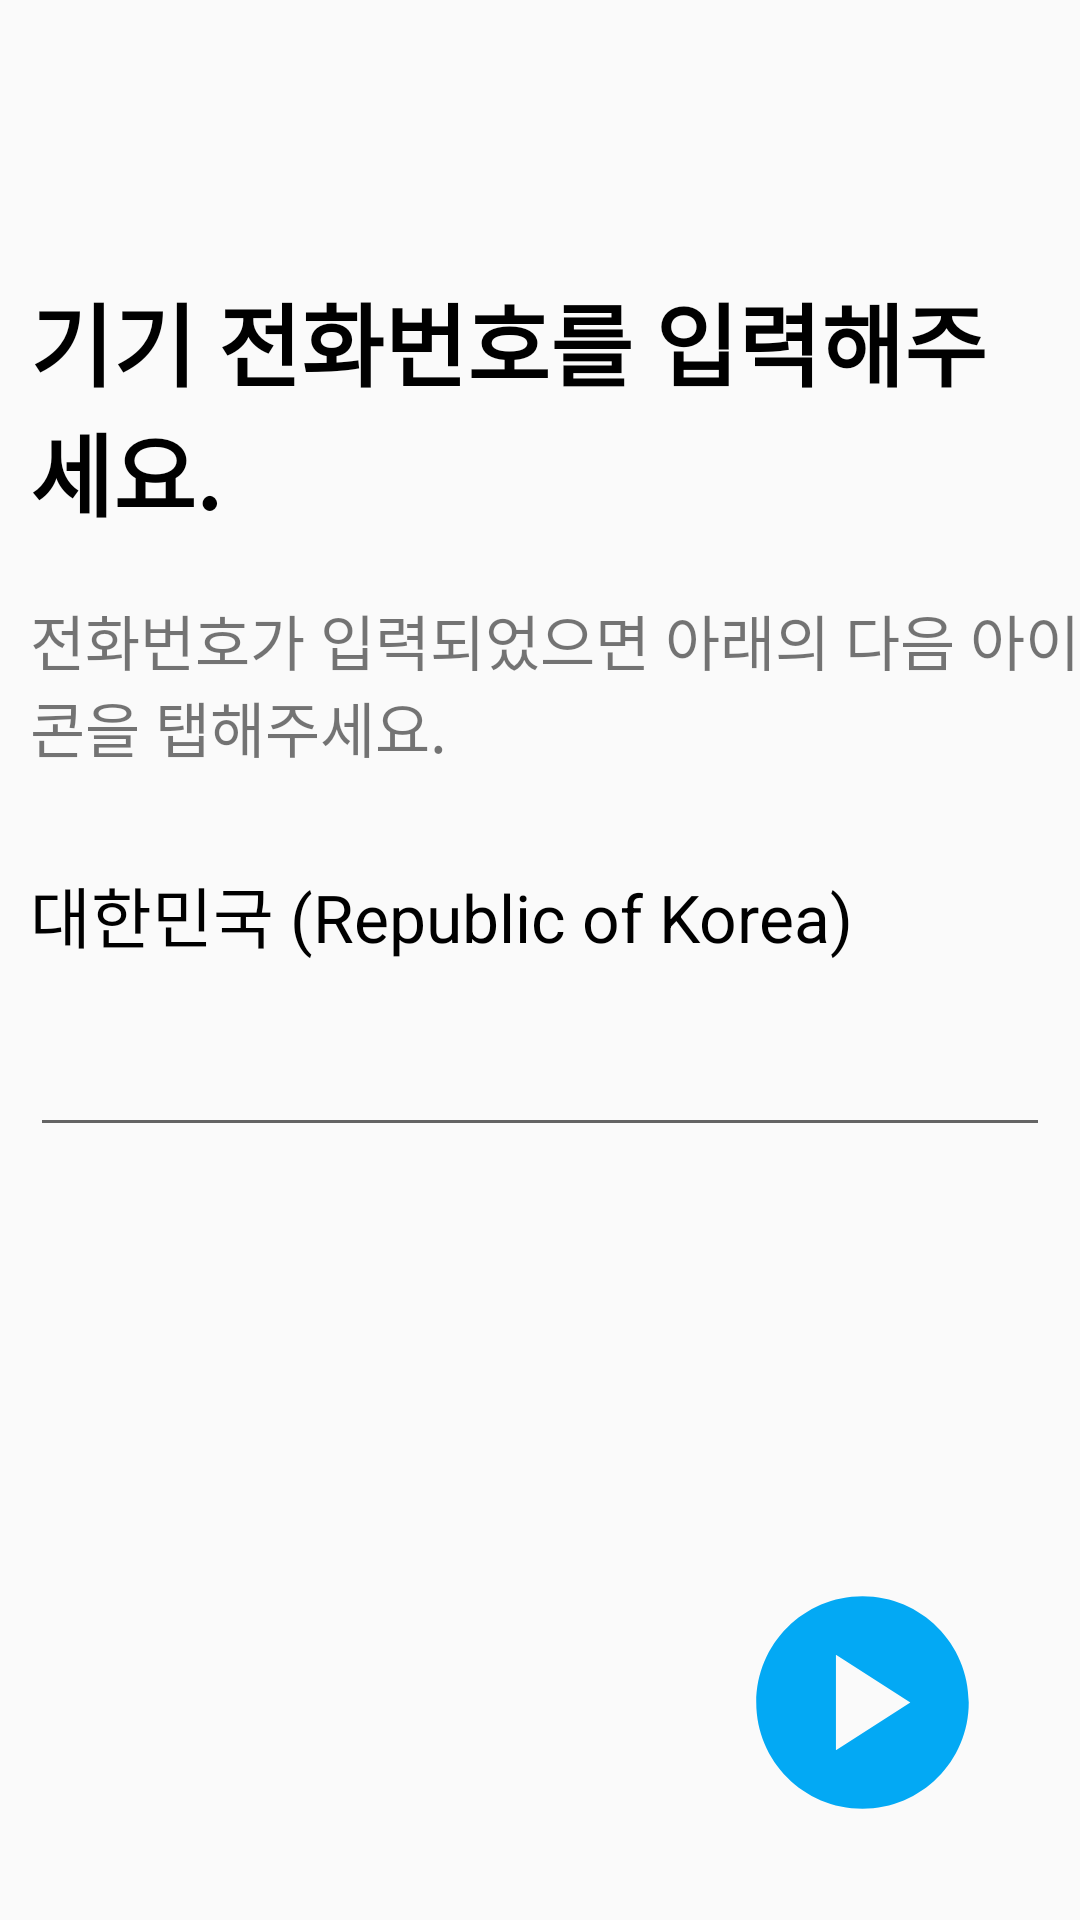

Where icons sit on this 1080*1920 app screen, as box(x1, y1, x2, y2):
play circle: box(756, 1596, 969, 1809)
